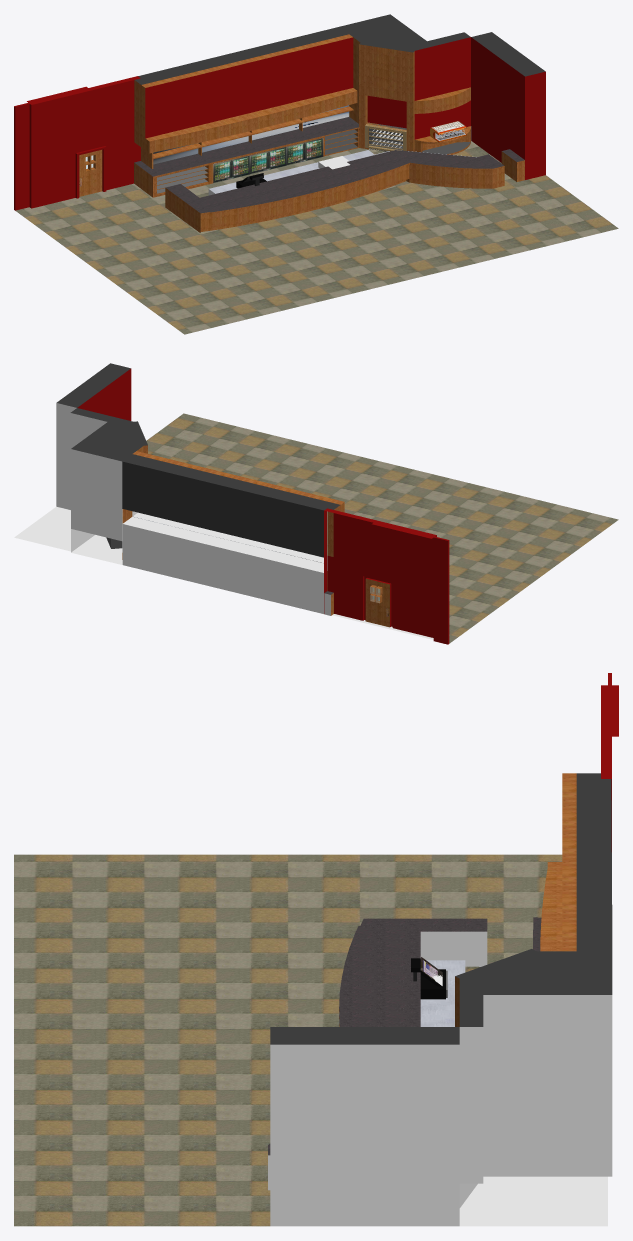
The model's file is bar2.dae.
3 renders of one model, top to bottom at view 1: azimuth 30°, elevation 25°; view 2: azimuth 150°, elevation 25°; view 3: azimuth 270°, elevation 25°, orthographic. The views are drawn at different scales.
Visible parts, largest first — view 1: Model, Group_2, skeEF60; view 2: Model; view 3: Model.
Boxes of the visible parts, x1,y1,x2,y2 form: Model: (14,14,618,334); Group_2: (367,123,406,150); skeEF60: (430,121,466,142); Model: (14,363,618,644); Model: (14,673,618,1226).
Bounding box in the file's own units: 318 × 219 × 72.77.
44 materials, 15 textured.
